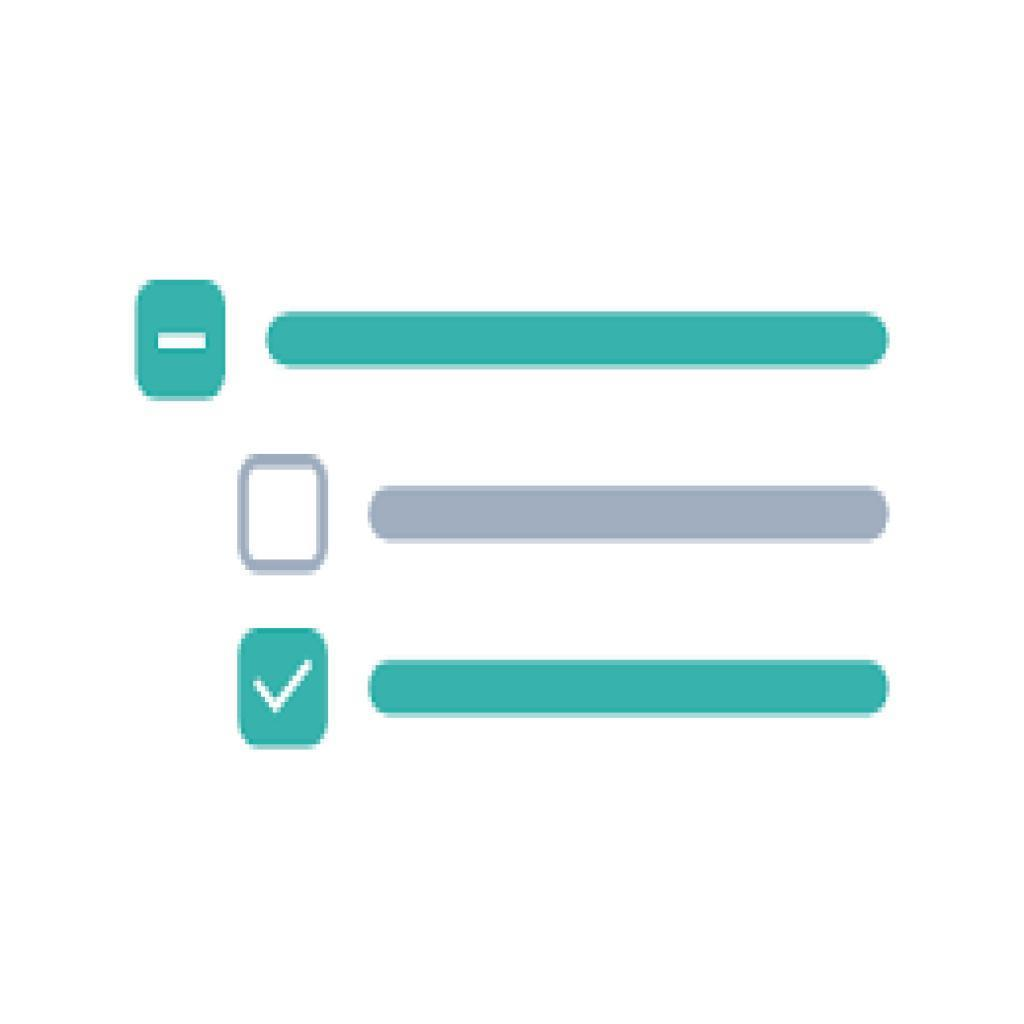checkbox: (138, 278, 227, 399), (242, 630, 330, 750), (242, 463, 328, 571)
